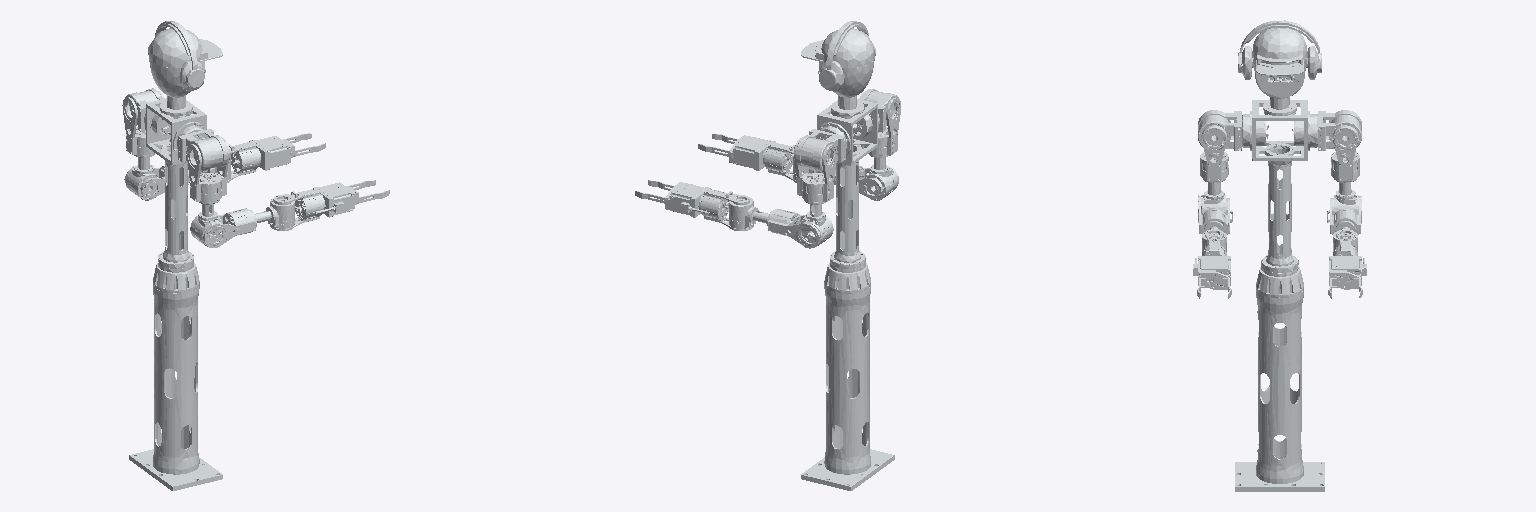
The robot description file, URDF, robot "HRB3Q-LC":
<?xml version="1.0" encoding="utf-8"?>
<!-- This URDF was automatically created by SolidWorks to URDF Exporter! Originally created by Stephen Brawner (brawner@gmail.com) 
     Commit Version: 1.6.0-4-g7f85cfe  Build Version: 1.6.7995.38578
     For more information, please see http://wiki.ros.org/sw_urdf_exporter -->
<robot
  name="HRB3Q-LC">
  <link name="dummy_root"/>
  <joint name="dummy_to_base" type="fixed">
    <parent link="dummy_root"/>
    <child link="Waist"/>
    <origin xyz="-1.83897483853e-08 0.000190909999114 0" rpy="0 0 -1.5707"/>
  </joint>  
  <link
    name="Waist">
    <inertial>
      <origin
        xyz="-1.73788845931125E-06 4.09843367266127E-06 0.370335800513476"
        rpy="0 0 0" />
      <mass
        value="6.72739654383945" />
      <inertia
        ixx="0.128578003326412"
        ixy="-5.48683858854331E-07"
        ixz="-4.67345241719499E-07"
        iyy="0.133920864364366"
        iyz="9.59504113242137E-07"
        izz="0.0301155657919325" />
    </inertial>
    <visual>
      <origin
        xyz="0 0 0"
        rpy="0 0 0" />
      <geometry>
        <mesh
          filename="package://arm_describle/meshes0408/Waist.STL" />
      </geometry>
      <material
        name="">
        <color
          rgba="0.898039215686275 0.917647058823529 0.929411764705882 1" />
      </material>
    </visual>
    <collision>
      <origin
        xyz="0 0 0"
        rpy="0 0 0" />
      <geometry>
        <mesh
          filename="package://arm_describle/meshes0408/Waist.STL" />
      </geometry>
    </collision>
    <!-- 实机底部钢板沿腰部立柱扫到 Joint_Body 转轴的最小包围体。
         仅用于碰撞检查，不改变 Waist 的 visual 或动力学惯量。 -->
    <collision name="waist_plate_to_axis_keepout">
      <origin xyz="0 0 0.33857" rpy="0 0 0" />
      <geometry>
        <box size="0.259 0.174 0.67714" />
      </geometry>
    </collision>
  </link>
  <link
    name="Body">
    <inertial>
      <origin
        xyz="4.47428434235259E-06 0.0054149465977954 0.486320399815704"
        rpy="0 0 0" />
      <mass
        value="8.16174511256408" />
      <inertia
        ixx="0.0252929798960977"
        ixy="-1.0950663478297E-06"
        ixz="-4.15230011161103E-08"
        iyy="0.0256844268395386"
        iyz="-0.000316649090724612"
        izz="0.0170534363864611" />
    </inertial>
    <visual>
      <origin
        xyz="0 0 0"
        rpy="0 0 0" />
      <geometry>
        <mesh
          filename="package://arm_describle/meshes0408/Body.STL" />
      </geometry>
      <material
        name="">
        <color
          rgba="0.898039215686275 0.917647058823529 0.929411764705882 1" />
      </material>
    </visual>
    <collision>
      <origin
        xyz="0 0 0"
        rpy="0 0 0" />
      <geometry>
        <mesh
          filename="package://arm_describle/meshes0408/Body.STL" />
      </geometry>
    </collision>
  </link>
  <joint
    name="Joint_Body"
    type="revolute">
    <origin
      xyz="0 0 0.677"
      rpy="0 0 0" />
    <parent
      link="Waist" />
    <child
      link="Body" />
    <axis
      xyz="0 0 1" />
    <limit
      lower="-6.2831852"   
      upper="6.2831852"    
      effort="50"       
      velocity="3.14" />
  </joint>
  <link
    name="arml1">
    <inertial>
      <origin
        xyz="0.00580063706924105 9.87659063977908E-07 -0.0616956383818057"
        rpy="0 0 0" />
      <mass
        value="1.61566224015074" />
      <inertia
        ixx="0.00196030121495102"
        ixy="-1.38256276011268E-07"
        ixz="8.43357389675001E-06"
        iyy="0.00171741953492753"
        iyz="-6.25531450059514E-07"
        izz="0.00161972988952037" />
    </inertial>
    <visual>
      <origin
        xyz="0 0 0"
        rpy="0 0 0" />
      <geometry>
        <mesh
          filename="package://arm_describle/meshes0408/arml1.STL" />
      </geometry>
      <material
        name="">
        <color
          rgba="0.898039215686275 0.917647058823529 0.929411764705882 1" />
      </material>
    </visual>
    <collision>
      <origin
        xyz="0 0 0"
        rpy="0 0 0" />
      <geometry>
        <mesh
          filename="package://arm_describle/meshes0408/arml1.STL" />
      </geometry>
    </collision>
  </link>
  <joint
    name="Joint_l1"
    type="revolute">
    <origin
      xyz="-0.1165 0 0.438"
      rpy="1.5708 0 1.5708" />
    <parent
      link="Body" />
    <child
      link="arml1" />
    <axis
      xyz="0 0 -1" />
    <limit
      lower="-3.1415926"   
      upper="3.1415926"    
      effort="50"       
      velocity="3.14" />
  </joint>
  <link
    name="arml2">
    <inertial>
      <origin
        xyz="-2.47059370016844E-05 -0.098325724547618 -0.0486467427626263"
        rpy="0 0 0" />
      <mass
        value="1.12419379759845" />
      <inertia
        ixx="0.00129406310927365"
        ixy="7.29198888563266E-07"
        ixz="5.6718333170603E-07"
        iyy="0.000889934404940177"
        iyz="-2.45973925912643E-06"
        izz="0.00132499952054773" />
    </inertial>
    <visual>
      <origin
        xyz="0 0 0"
        rpy="0 0 0" />
      <geometry>
        <mesh
          filename="package://arm_describle/meshes0408/arml2.STL" />
      </geometry>
      <material
        name="">
        <color
          rgba="0.898039215686275 0.917647058823529 0.929411764705882 1" />
      </material>
    </visual>
    <collision>
      <origin
        xyz="0 0 0"
        rpy="0 0 0" />
      <geometry>
        <mesh
          filename="package://arm_describle/meshes0408/arml2.STL" />
      </geometry>
    </collision>
  </link>
  <joint
    name="Joint_l2"
    type="revolute">
    <origin
      xyz="0.0505 0 -0.074"
      rpy="0 1.5708 0" />
    <parent
      link="arml1" />
    <child
      link="arml2" />
    <axis
      xyz="0 0 1" />
    <limit
      lower="-0.15"   
      upper="3.1415926"    
      effort="50"       
      velocity="3.14" />
  </joint>
  <link
    name="arml3">
    <inertial>
      <origin
        xyz="0.00213058851469222 -2.46823754913583E-05 0.0935415880900397"
        rpy="0 0 0" />
      <mass
        value="1.08770349053362" />
      <inertia
        ixx="0.00102523835664429"
        ixy="-7.46843828352358E-07"
        ixz="-1.92281400485864E-05"
        iyy="0.000857662232457349"
        iyz="2.4377308015211E-07"
        izz="0.000775433253468383" />
    </inertial>
    <visual>
      <origin
        xyz="0 0 0"
        rpy="0 0 0" />
      <geometry>
        <mesh
          filename="package://arm_describle/meshes0408/arml3.STL" />
      </geometry>
      <material
        name="">
        <color
          rgba="0.898039215686275 0.917647058823529 0.929411764705882 1" />
      </material>
    </visual>
    <collision>
      <origin
        xyz="0 0 0"
        rpy="0 0 0" />
      <geometry>
        <mesh
          filename="package://arm_describle/meshes0408/arml3.STL" />
      </geometry>
    </collision>
  </link>
  <joint
    name="Joint_l3"
    type="revolute">
    <origin
      xyz="0 -0.1455 -0.0505"
      rpy="-1.5708 0 3.1416" />
    <parent
      link="arml2" />
    <child
      link="arml3" />
    <axis
      xyz="0 0 1" />
    <limit
      lower="-3.1415926"   
      upper="3.1415926"    
      effort="50"       
      velocity="3.14" />
  </joint>
  <link
    name="arml4">
    <inertial>
      <origin
        xyz="0.0748563330855855 -5.36320221566911E-09 -0.0384400599653859"
        rpy="0 0 0" />
      <mass
        value="0.291945457019171" />
      <inertia
        ixx="0.000202239159805527"
        ixy="-1.44965626685055E-09"
        ixz="-5.59680436849159E-06"
        iyy="0.000549607386399966"
        iyz="-5.7929870298915E-12"
        izz="0.000551515013211078" />
    </inertial>
    <visual>
      <origin
        xyz="0 0 0"
        rpy="0 0 0" />
      <geometry>
        <mesh
          filename="package://arm_describle/meshes0408/arml4.STL" />
      </geometry>
      <material
        name="">
        <color
          rgba="0.898039215686275 0.917647058823529 0.929411764705882 1" />
      </material>
    </visual>
    <collision>
      <origin
        xyz="0 0 0"
        rpy="0 0 0" />
      <geometry>
        <mesh
          filename="package://arm_describle/meshes0408/arml4.STL" />
      </geometry>
    </collision>
  </link>
  <joint
    name="Joint_l4"
    type="revolute">
    <origin
      xyz="0.04 0 0.106"
      rpy="-1.5708 0 -1.5708" />
    <parent
      link="arml3" />
    <child
      link="arml4" />
    <axis
      xyz="0 0 1" />
    <limit
      lower="-1.5707963"   
      upper="2.0943951"    
      effort="50"       
      velocity="3.14" />
  </joint>
  <link
    name="arml5">
    <inertial>
      <origin
        xyz="7.79053707808675E-05 0.0015129197114605 0.0976562210058013"
        rpy="0 0 0" />
      <mass
        value="0.842824039046815" />
      <inertia
        ixx="0.000594798314249688"
        ixy="7.24969454863584E-07"
        ixz="-1.39123716787588E-07"
        iyy="0.000663056683993988"
        iyz="-1.42528567733777E-05"
        izz="0.000488816760765804" />
    </inertial>
    <visual>
      <origin
        xyz="0 0 0"
        rpy="0 0 0" />
      <geometry>
        <mesh
          filename="package://arm_describle/meshes0408/arml5.STL" />
      </geometry>
      <material
        name="">
        <color
          rgba="0.898039215686275 0.917647058823529 0.929411764705882 1" />
      </material>
    </visual>
    <collision>
      <origin
        xyz="0 0 0"
        rpy="0 0 0" />
      <geometry>
        <mesh
          filename="package://arm_describle/meshes0408/arml5.STL" />
      </geometry>
    </collision>
  </link>
  <joint
    name="Joint_l5"
    type="revolute">
    <origin
      xyz="0.144 0 -0.04"
      rpy="0 1.5708 0" />
    <parent
      link="arml4" />
    <child
      link="arml5" />
    <axis
      xyz="0 0 1" />
    <limit
      lower="-3.1415926"   
      upper="3.1415926"    
      effort="50"       
      velocity="3.14" />
  </joint>
  <link
    name="arml6">
    <inertial>
      <origin
        xyz="-3.87953496743532E-05 -0.0827611497194195 -0.0343557296795404"
        rpy="0 0 0" />
      <mass
        value="0.750716989226528" />
      <inertia
        ixx="0.000613907914614685"
        ixy="7.60951912815651E-07"
        ixz="5.75923757561481E-07"
        iyy="0.000487830847304463"
        iyz="3.93672362183647E-06"
        izz="0.000607071036365369" />
    </inertial>
    <visual>
      <origin
        xyz="0 0 0"
        rpy="0 0 0" />
      <geometry>
        <mesh
          filename="package://arm_describle/meshes0408/arml6.STL" />
      </geometry>
      <material
        name="">
        <color
          rgba="0.898039215686275 0.917647058823529 0.929411764705882 1" />
      </material>
    </visual>
    <collision>
      <origin
        xyz="0 0 0"
        rpy="0 0 0" />
      <geometry>
        <mesh
          filename="package://arm_describle/meshes0408/arml6.STL" />
      </geometry>
    </collision>
  </link>
  <joint
    name="Joint_l6"
    type="revolute">
    <origin
      xyz="0 0.036 0.113"
      rpy="-1.5708 0 0" />
    <parent
      link="arml5" />
    <child
      link="arml6" />
    <axis
      xyz="0 0 1" />
    <limit
      lower="-1.7453292"   
      upper="1.7453292"    
      effort="50"       
      velocity="3.14" />
  </joint>
  <link
    name="arml7">
    <inertial>
      <origin
        xyz="0.00137872677447914 -2.10185572045996E-05 0.0594139048805935"
        rpy="0 0 0" />
      <mass
        value="1.53968802705119" />
      <inertia
        ixx="0.000614958585916074"
        ixy="1.04115297814328E-05"
        ixz="7.20653852709879E-08"
        iyy="0.00116160684632029"
        iyz="-1.14267122009406E-07"
        izz="0.00132160556724999" />
    </inertial>
    <visual>
      <origin
        xyz="0 0 0"
        rpy="0 0 0" />
      <geometry>
        <mesh
          filename="package://arm_describle/meshes0408/arml7.STL" />
      </geometry>
      <material
        name="">
        <color
          rgba="0.898039215686275 0.917647058823529 0.929411764705882 1" />
      </material>
    </visual>
    <collision>
      <origin
        xyz="0 0 0"
        rpy="0 0 0" />
      <geometry>
        <mesh
          filename="package://arm_describle/meshes0408/arml7.STL" />
      </geometry>
    </collision>
  </link>
  <joint
    name="Joint_l7"
    type="revolute">
    <origin
      xyz="0 -0.12 -0.036"
      rpy="1.5708 0 0" />
    <parent
      link="arml6" />
    <child
      link="arml7" />
    <axis
      xyz="0 0 1" />
    <limit
      lower="-6.2831853"   
      upper="6.2831853"    
      effort="50"       
      velocity="3.14" />
  </joint>

  <link name="left_gripper_tcp"/>

  <joint name="left_end_eff" type="fixed">
    <parent link="arml7" /> 
    <child link="left_gripper_tcp" /> 
    <!-- <origin xyz="0 -0.08 0.187" rpy="0 0 0" />  -->
    <origin xyz="0 0 0.153" rpy="0 0 0" />
    <!-- <origin xyz="0 0 0.175" rpy="0 0 0" /> -->
  </joint>

  <link
    name="armr1">
    <inertial>
      <origin
        xyz="0.00580063707987277 -2.8414561215051E-06 0.0616934278468561"
        rpy="0 0 0" />
      <mass
        value="1.61566224032513" />
      <inertia
        ixx="0.00196030121609016"
        ixy="-8.54412946097632E-07"
        ixz="-8.84705317059134E-06"
        iyy="0.00171816923667757"
        iyz="1.92687023734233E-07"
        izz="0.00161898018995245" />
    </inertial>
    <visual>
      <origin
        xyz="0 0 0"
        rpy="0 0 0" />
      <geometry>
        <mesh
          filename="package://arm_describle/meshes0408/armr1.STL" />
      </geometry>
      <material
        name="">
        <color
          rgba="0.898039215686275 0.917647058823529 0.929411764705882 1" />
      </material>
    </visual>
    <collision>
      <origin
        xyz="0 0 0"
        rpy="0 0 0" />
      <geometry>
        <mesh
          filename="package://arm_describle/meshes0408/armr1.STL" />
      </geometry>
    </collision>
  </link>
  <joint
    name="Joint_r1"
    type="revolute">
    <origin
      xyz="0.1165 0 0.438"
      rpy="1.5708 0 1.5708" />
    <parent
      link="Body" />
    <child
      link="armr1" />
    <axis
      xyz="0 0 1" />
    <limit
      lower="-3.1415926"   
      upper="3.1415926"    
      effort="50"       
      velocity="3.14" />
  </joint>
  <link
    name="armr2">
    <inertial>
      <origin
        xyz="-2.47060097812446E-05 -0.0983257245428618 -0.0486467427829016"
        rpy="0 0 0" />
      <mass
        value="1.12419379715922" />
      <inertia
        ixx="0.00129406309674369"
        ixy="7.27419999573231E-07"
        ixz="5.67183982914884E-07"
        iyy="0.000889934416743309"
        iyz="-2.45973975427885E-06"
        izz="0.00132499952011308" />
    </inertial>
    <visual>
      <origin
        xyz="0 0 0"
        rpy="0 0 0" />
      <geometry>
        <mesh
          filename="package://arm_describle/meshes0408/armr2.STL" />
      </geometry>
      <material
        name="">
        <color
          rgba="0.898039215686275 0.917647058823529 0.929411764705882 1" />
      </material>
    </visual>
    <collision>
      <origin
        xyz="0 0 0"
        rpy="0 0 0" />
      <geometry>
        <mesh
          filename="package://arm_describle/meshes0408/armr2.STL" />
      </geometry>
    </collision>
  </link>
  <joint
    name="Joint_r2"
    type="revolute">
    <origin
      xyz="0.0505 0 0.074"
      rpy="0 1.5708 0" />
    <parent
      link="armr1" />
    <child
      link="armr2" />
    <axis
      xyz="0 0 1" />
    <limit
      lower="-3.1415926"   
      upper="0.15"    
      effort="50"       
      velocity="3.14" />
  </joint>
  <link
    name="armr3">
    <inertial>
      <origin
        xyz="-0.00213058851915929 2.46823450066325E-05 0.0935415880247177"
        rpy="0 0 0" />
      <mass
        value="1.08770349080251" />
      <inertia
        ixx="0.0010252383571699"
        ixy="-7.46844455069472E-07"
        ixz="1.9228138773624E-05"
        iyy="0.000857662233743101"
        iyz="-2.43772306395215E-07"
        izz="0.000775433252665538" />
    </inertial>
    <visual>
      <origin
        xyz="0 0 0"
        rpy="0 0 0" />
      <geometry>
        <mesh
          filename="package://arm_describle/meshes0408/armr3.STL" />
      </geometry>
      <material
        name="">
        <color
          rgba="0.898039215686275 0.917647058823529 0.929411764705882 1" />
      </material>
    </visual>
    <collision>
      <origin
        xyz="0 0 0"
        rpy="0 0 0" />
      <geometry>
        <mesh
          filename="package://arm_describle/meshes0408/armr3.STL" />
      </geometry>
    </collision>
  </link>
  <joint
    name="Joint_r3"
    type="revolute">
    <origin
      xyz="0 -0.1455 -0.0505"
      rpy="-1.5708 0 -3.1416" />
    <parent
      link="armr2" />
    <child
      link="armr3" />
    <axis
      xyz="0 0 1" />
    <limit
      lower="-3.1415926"   
      upper="3.1415926"    
      effort="50"       
      velocity="3.14" />
  </joint>
  <link
    name="armr4">
    <inertial>
      <origin
        xyz="-0.0748558086239512 -4.49695369830749E-09 0.0384400601677456"
        rpy="0 0 0" />
      <mass
        value="0.29194545605031" />
      <inertia
        ixx="0.000202239164385698"
        ixy="2.62209332349811E-11"
        ixz="-5.59680436805108E-06"
        iyy="0.000549607381699348"
        iyz="5.80669909426674E-12"
        izz="0.000551515013126759" />
    </inertial>
    <visual>
      <origin
        xyz="0 0 0"
        rpy="0 0 0" />
      <geometry>
        <mesh
          filename="package://arm_describle/meshes0408/armr4.STL" />
      </geometry>
      <material
        name="">
        <color
          rgba="0.898039215686275 0.917647058823529 0.929411764705882 1" />
      </material>
    </visual>
    <collision>
      <origin
        xyz="0 0 0"
        rpy="0 0 0" />
      <geometry>
        <mesh
          filename="package://arm_describle/meshes0408/armr4.STL" />
      </geometry>
    </collision>
  </link>
  <joint
    name="Joint_r4"
    type="revolute">
    <origin
      xyz="-0.04 0 0.106"
      rpy="1.5708 0 1.5708" />
    <parent
      link="armr3" />
    <child
      link="armr4" />
    <axis
      xyz="0 0 -1" />
    <limit
      lower="-2.0943951"   
      upper="1.5707963"    
      effort="50"       
      velocity="3.14" />
  </joint>
  <link
    name="armr5">
    <inertial>
      <origin
        xyz="-6.9718438756583E-06 0.0015740328830357 0.0976593657680329"
        rpy="0 0 0" />
      <mass
        value="0.841032453778833" />
      <inertia
        ixx="0.000593706194723659"
        ixy="-1.04358508871097E-07"
        ixz="3.69354807583659E-07"
        iyy="0.000663013861172857"
        iyz="-1.37552740906956E-05"
        izz="0.000489840081312858" />
    </inertial>
    <visual>
      <origin
        xyz="0 0 0"
        rpy="0 0 0" />
      <geometry>
        <mesh
          filename="package://arm_describle/meshes0408/armr5.STL" />
      </geometry>
      <material
        name="">
        <color
          rgba="0.898039215686275 0.917647058823529 0.929411764705882 1" />
      </material>
    </visual>
    <collision>
      <origin
        xyz="0 0 0"
        rpy="0 0 0" />
      <geometry>
        <mesh
          filename="package://arm_describle/meshes0408/armr5.STL" />
      </geometry>
    </collision>
  </link>
  <joint
    name="Joint_r5"
    type="revolute">
    <origin
      xyz="-0.144 0 0.04"
      rpy="3.1416 1.5708 0" />
    <parent
      link="armr4" />
    <child
      link="armr5" />
    <axis
      xyz="0 0 1" />
    <limit
      lower="-3.1415926"   
      upper="3.1415926"    
      effort="50"       
      velocity="3.14" />
  </joint>
  <link
    name="armr6">
    <inertial>
      <origin
        xyz="1.38231033283698E-06 -0.0827611497194189 -0.0343123043702178"
        rpy="0 0 0" />
      <mass
        value="0.75071698922654" />
      <inertia
        ixx="0.000613420330037972"
        ixy="2.32559881355643E-08"
        ixz="-5.03010033933128E-07"
        iyy="0.000487830847304468"
        iyz="3.02649310239814E-06"
        izz="0.00060755862094211" />
    </inertial>
    <visual>
      <origin
        xyz="0 0 0"
        rpy="0 0 0" />
      <geometry>
        <mesh
          filename="package://arm_describle/meshes0408/armr6.STL" />
      </geometry>
      <material
        name="">
        <color
          rgba="0.898039215686275 0.917647058823529 0.929411764705882 1" />
      </material>
    </visual>
    <collision>
      <origin
        xyz="0 0 0"
        rpy="0 0 0" />
      <geometry>
        <mesh
          filename="package://arm_describle/meshes0408/armr6.STL" />
      </geometry>
    </collision>
  </link>
  <joint
    name="Joint_r6"
    type="revolute">
    <origin
      xyz="0 0.036 0.113"
      rpy="-1.5708 0 0" />
    <parent
      link="armr5" />
    <child
      link="armr6" />
    <axis
      xyz="0 0 1" />
    <limit
      lower="-1.7453292"   
      upper="1.7453292"    
      effort="50"       
      velocity="3.14" />
  </joint>
  <link
    name="armr7">
    <inertial>
      <origin
        xyz="-0.00137872677447762 2.10185572047106E-05 0.0594139048805939"
        rpy="0 0 0" />
      <mass
        value="1.53968802705119" />
      <inertia
        ixx="0.000614958585916072"
        ixy="1.04115297814326E-05"
        ixz="-7.20653852642896E-08"
        iyy="0.00116160684632029"
        iyz="1.14267122008994E-07"
        izz="0.00132160556724999" />
    </inertial>
    <visual>
      <origin
        xyz="0 0 0"
        rpy="0 0 0" />
      <geometry>
        <mesh
          filename="package://arm_describle/meshes0408/armr7.STL" />
      </geometry>
      <material
        name="">
        <color
          rgba="0.898039215686275 0.917647058823529 0.929411764705882 1" />
      </material>
    </visual>
    <collision>
      <origin
        xyz="0 0 0"
        rpy="0 0 0" />
      <geometry>
        <mesh
          filename="package://arm_describle/meshes0408/armr7.STL" />
      </geometry>
    </collision>
  </link>
  <joint
    name="Joint_r7"
    type="revolute">
    <origin
      xyz="0 -0.12 -0.036"
      rpy="1.5708 0 0" />
    <parent
      link="armr6" />
    <child
      link="armr7" />
    <axis
      xyz="0 0 1" />
    <limit
      lower="-6.2831853"   
      upper="6.2831853"    
      effort="50"       
      velocity="3.14" />
  </joint>

  <link name="right_gripper_tcp"/>

  <joint name="right_end_eff" type="fixed">
    <parent link="armr7" /> 
    <child link="right_gripper_tcp" /> 
    <!-- <origin xyz="0 -0.08 0.187" rpy="-1.5708 0 0" />  -->
    <origin xyz="0 0 0.155" rpy="0 0 0" /> 
    <!-- <origin xyz="0 0 0.175" rpy="-1.5708 0 0" /> -->
  </joint>

</robot>

--- Facts derived from the render (not from the file) ---
3 views of the same robot in one strip: view 1: azimuth 30°, elevation 25°; view 2: azimuth 150°, elevation 25°; view 3: azimuth 270°, elevation 25° (orthographic).
Robot: HRB3Q-LC — 19 links, 18 joints (15 revolute, 3 fixed); root link dummy_root; default pose: every joint at zero.
Visible links, largest first — view 1: Waist, Body, armr1, armr7, armr2, arml7, armr6, armr3, armr4, arml6, arml3, armr5 (+2 smaller); view 2: Waist, Body, arml1, arml7, armr7, arml2, arml6, arml4, arml3, armr6, armr3, arml5 (+2 smaller); view 3: Body, Waist, armr1, arml1, armr7, arml7, arml2, armr2, armr4, arml4, armr3, arml3.
Boxes of the visible links, <box> form: Waist: <box>129,263,222,490</box>; Body: <box>144,21,222,272</box>; armr1: <box>178,129,227,171</box>; armr7: <box>313,180,389,217</box>; armr2: <box>186,138,230,201</box>; arml7: <box>249,133,325,170</box>; armr6: <box>270,189,323,230</box>; armr3: <box>190,200,224,246</box>; armr4: <box>203,208,255,247</box>; arml6: <box>227,142,259,182</box>; arml3: <box>126,153,159,200</box>; armr5: <box>250,198,294,228</box>; Waist: <box>801,263,894,490</box>; Body: <box>801,21,879,272</box>; arml1: <box>796,129,845,171</box>; arml7: <box>635,180,710,217</box>; armr7: <box>698,134,774,170</box>; arml2: <box>794,138,837,201</box>; arml6: <box>700,189,753,230</box>; arml4: <box>768,209,820,248</box>; arml3: <box>798,200,833,247</box>; armr6: <box>764,141,796,182</box>; armr3: <box>864,153,897,200</box>; arml5: <box>729,198,773,228</box>; Body: <box>1238,20,1321,276</box>; Waist: <box>1235,266,1324,491</box>; armr1: <box>1198,110,1241,150</box>; arml1: <box>1318,110,1361,150</box>; armr7: <box>1193,256,1231,298</box>; arml7: <box>1328,256,1366,298</box>; arml2: <box>1331,125,1359,181</box>; armr2: <box>1200,125,1228,181</box>; armr4: <box>1198,195,1232,234</box>; arml4: <box>1327,196,1361,234</box>; armr3: <box>1201,178,1225,214</box>; arml3: <box>1334,178,1358,214</box>.
Bounding box of the posed robot: 0.6878 × 0.506 × 1.47 m (x, y, z).
16 mesh visuals loaded from 16 distinct referenced files (16 binary STL).
